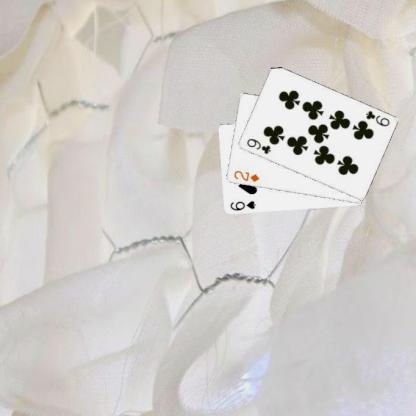2D: (231, 168, 261, 183)
6S: (227, 198, 257, 212)
9C: (244, 136, 272, 156), (363, 108, 391, 128)
